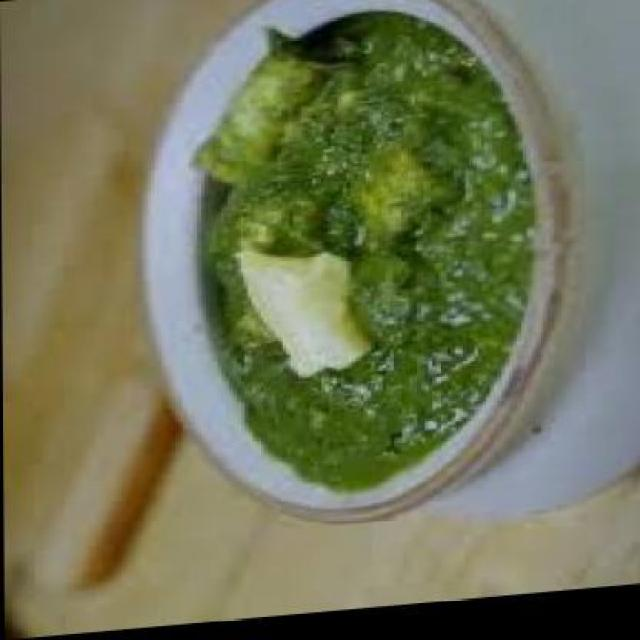palak_paneer: (189, 5, 534, 509)
